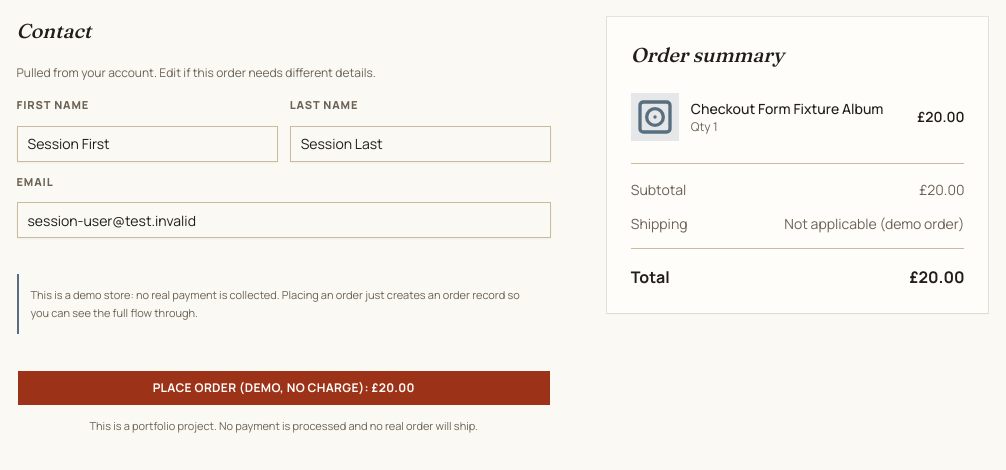
Test: CheckoutForm › shows a generic error on other failures
Step 1. Click the button "Place order (demo, no charge): £20.00" → (284, 388), box [16,370,551,406]
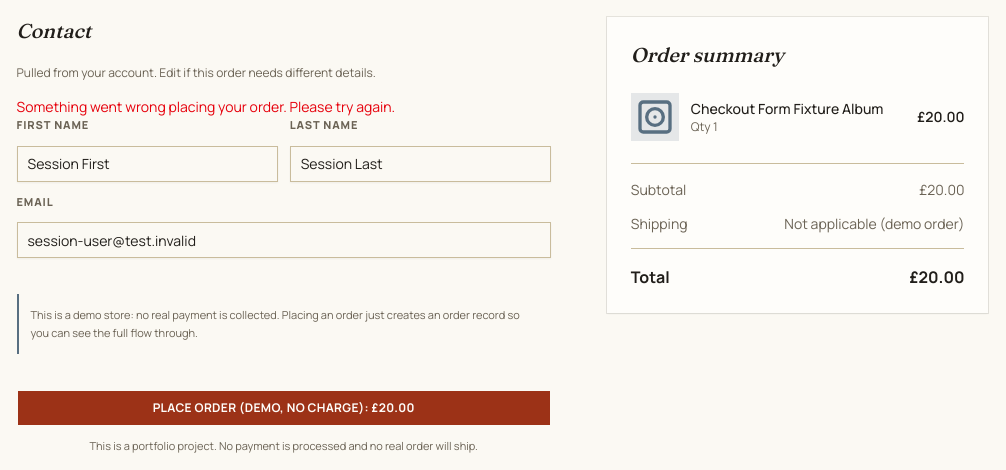
expect the text "Something went wrong placing your order. Please try again." is shown: met, box [16,97,395,116]
